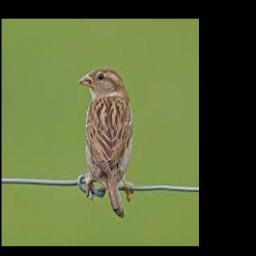Sparrow: (78, 66, 132, 217)
